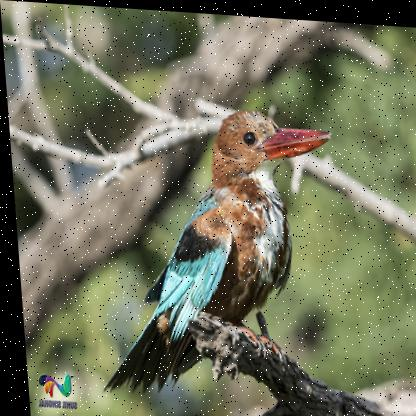Burung: (80, 98, 346, 403)
